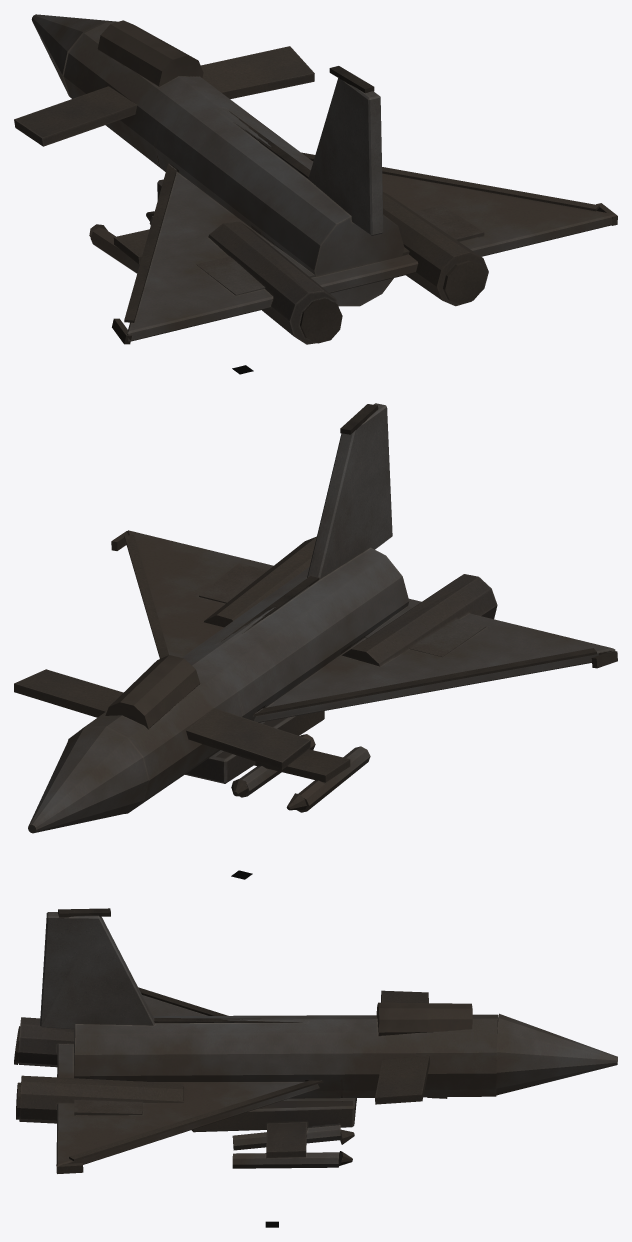
Rendered from chs_harpy_wreck.fbx.
The picture shows the model from 3 angles, top to bottom: view 1: azimuth 30°, elevation 25°; view 2: azimuth 150°, elevation 25°; view 3: azimuth 270°, elevation 25°; orthographic projection. The views are drawn at different scales.
Visible parts, largest first — view 1: base_bar, pylon_bar; view 2: base_bar, pylon_bar; view 3: base_bar, pylon_bar.
Part boxes in pixels (x1,y1,x2,y2): base_bar: [14, 14, 617, 344]; pylon_bar: [89, 179, 163, 273]; base_bar: [14, 403, 617, 833]; pylon_bar: [185, 711, 370, 812]; base_bar: [14, 908, 617, 1173]; pylon_bar: [191, 1098, 356, 1168].
Bounding box in the file's own units: 695 × 508 × 890.
2 materials, 2 textured.
